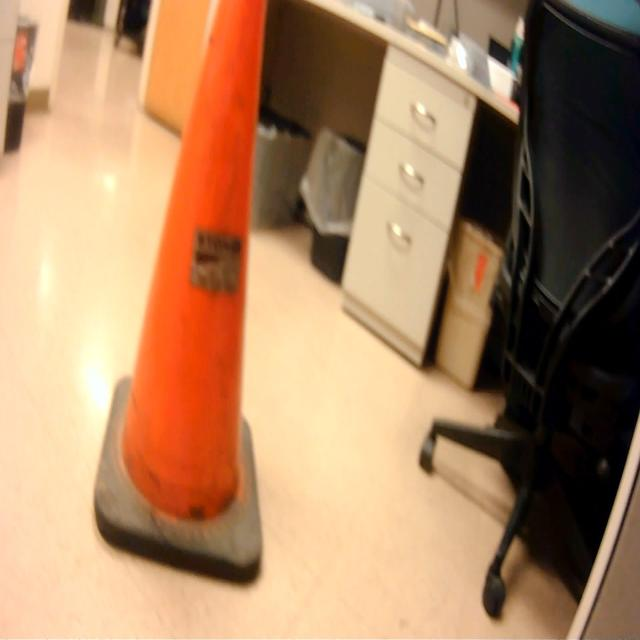traffic cone: (90, 5, 275, 590)
